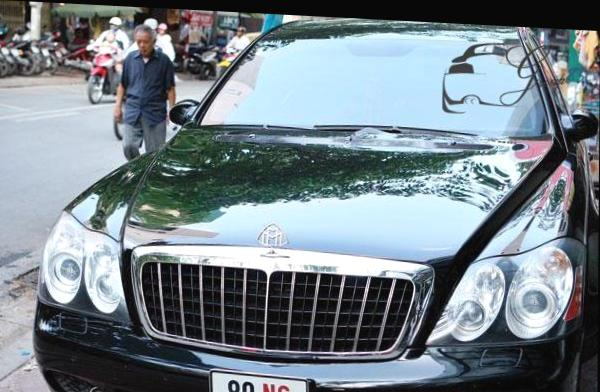License_Plate: (205, 366, 312, 392)
